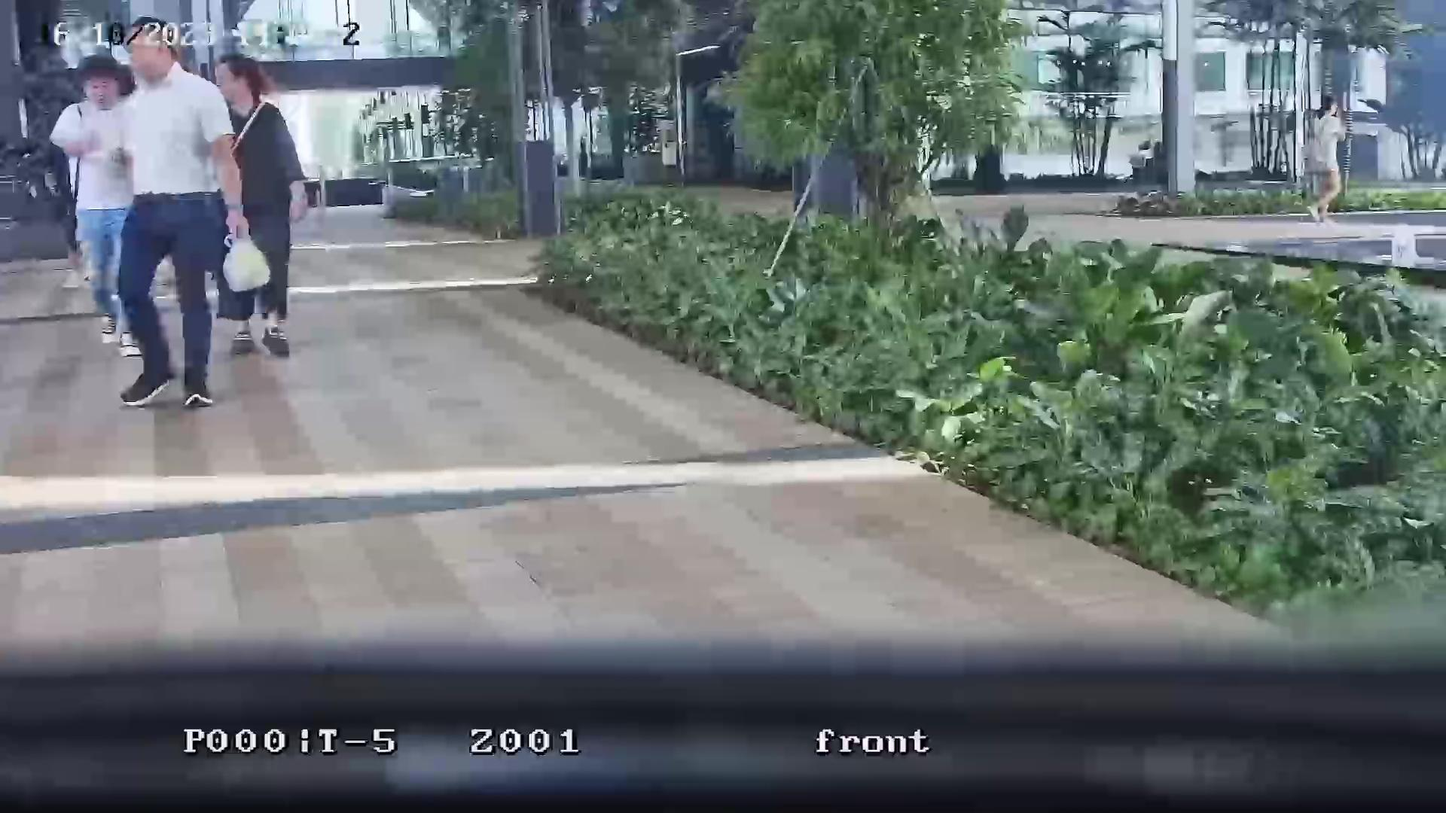person: (114, 16, 246, 410), (215, 53, 309, 357), (50, 51, 136, 351), (1304, 98, 1347, 224)
